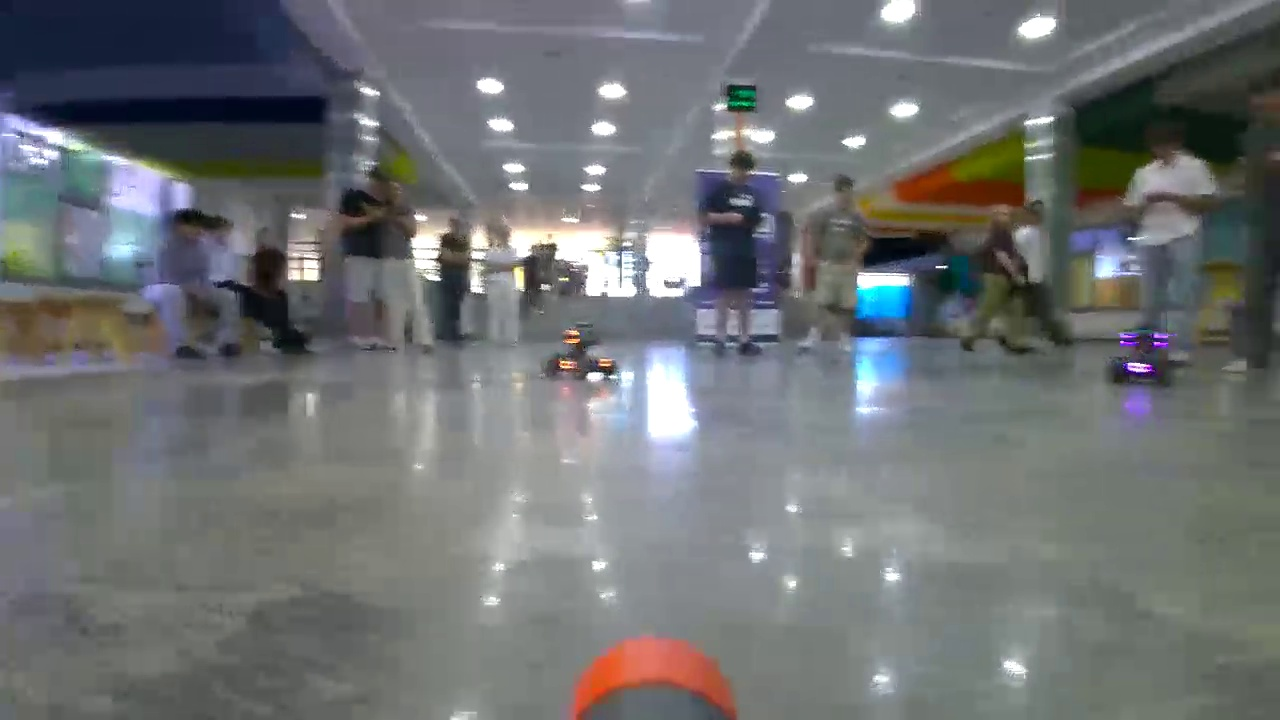robot: (547, 325, 620, 375), (1111, 329, 1177, 382)
